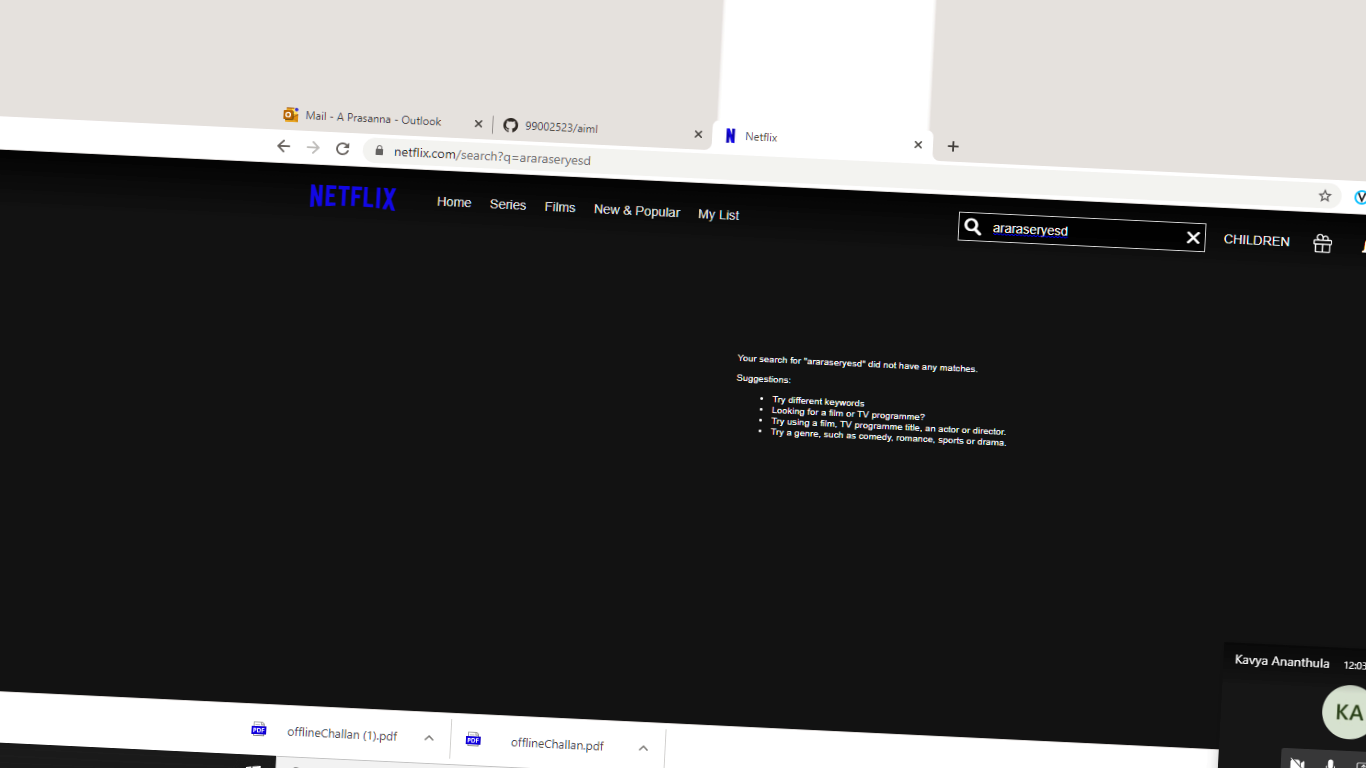mywatchlistbutton: (692, 197, 748, 230)
noresultsfound: (715, 341, 1020, 460)
searchicon: (960, 212, 985, 241)
searchtextbox: (945, 203, 1216, 259)
